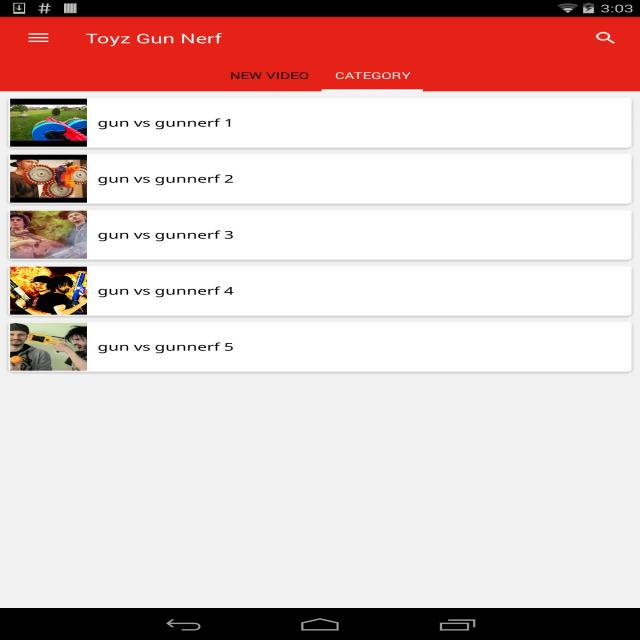button: (9, 322, 632, 372), (9, 97, 631, 147), (9, 153, 630, 203), (10, 266, 631, 316), (9, 210, 630, 259), (324, 65, 422, 90), (222, 66, 318, 90), (589, 28, 627, 48), (24, 30, 53, 46)
heading: (86, 31, 228, 50)
image: (10, 98, 87, 146), (10, 155, 86, 203), (11, 211, 87, 259), (12, 322, 86, 371), (12, 267, 87, 315)
text: (95, 173, 240, 188), (95, 116, 236, 130), (95, 340, 236, 354), (97, 285, 235, 298), (94, 230, 239, 242)
